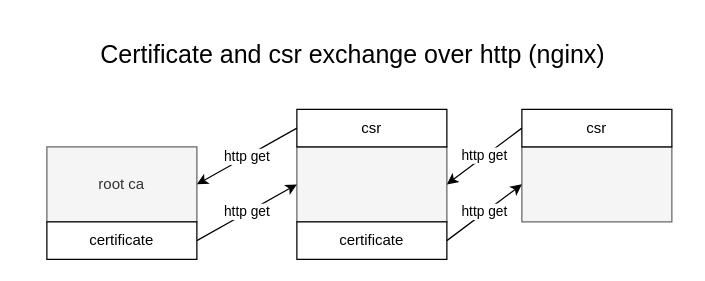
The diagram is 705 pixels wide and 281 high, and some of its shapes have lost their labels. Each missing label, with the centre of its shape:
end entity: point 596,184
intermediate ca: point 371,184
